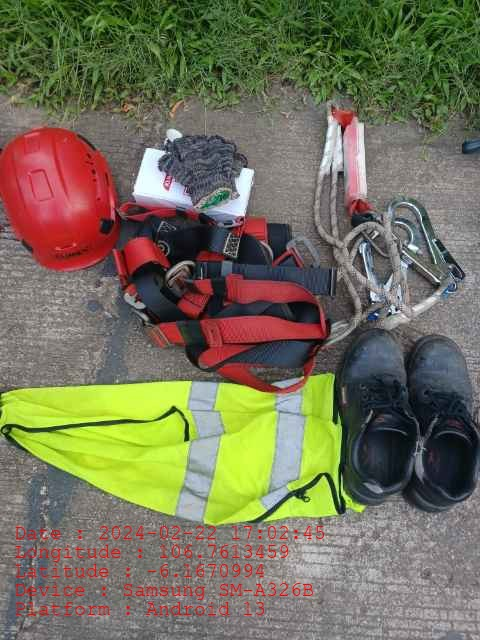HELM: (4, 127, 118, 274)
SEPATU: (343, 331, 480, 514)
TAMBANG_SLING: (314, 93, 464, 321)
